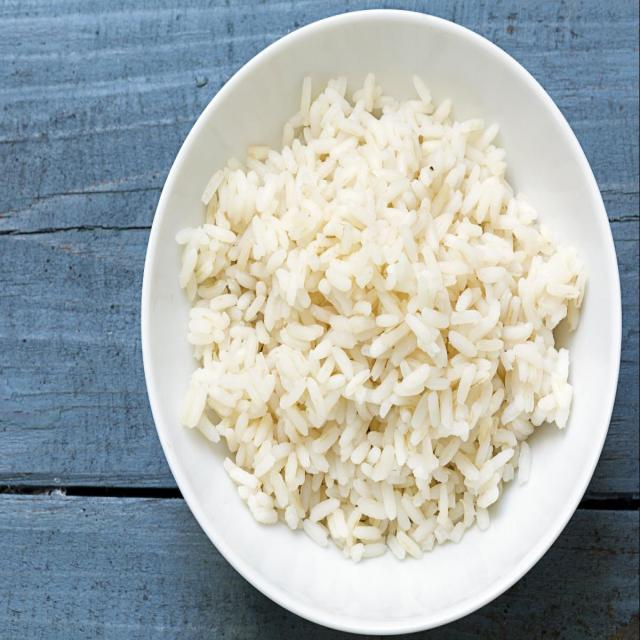Wet Waste: (182, 66, 580, 544)
